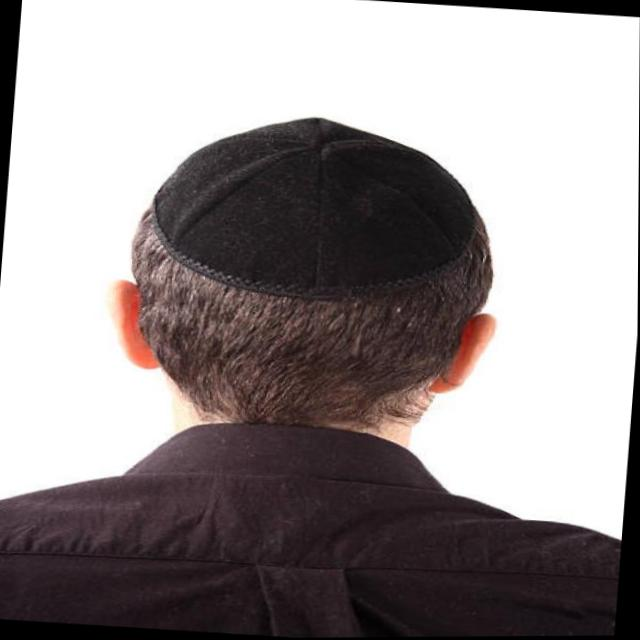no helmet: (87, 79, 525, 455)
